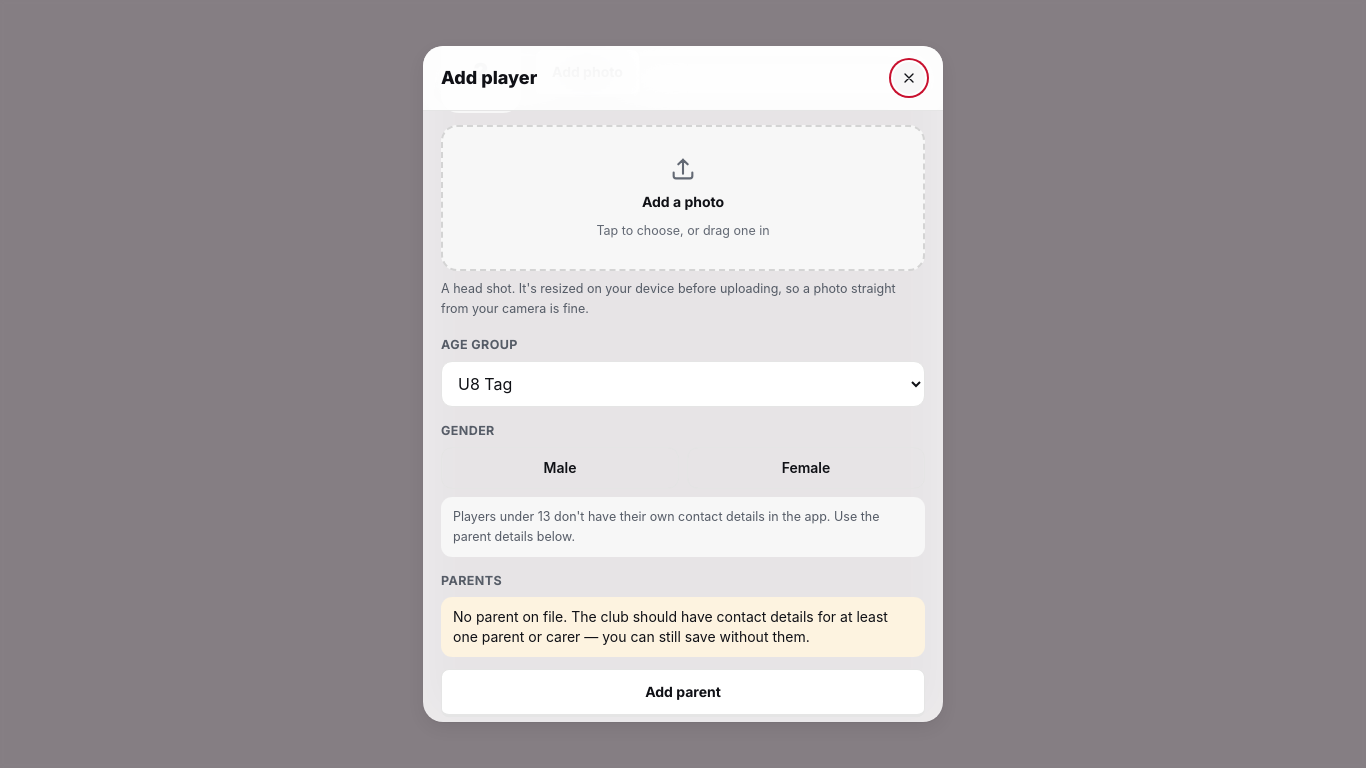
PlayerForm — a minis player › ⚠️ MOVES WITH THE AGE GROUP DROPDOWN, in the same sitting
(page scrolled)
Check: the field labelled "tier" is not shown
Select "U14B Contact" in the dropdown labelled "Age group" at (683, 384), box [441,361,925,407]
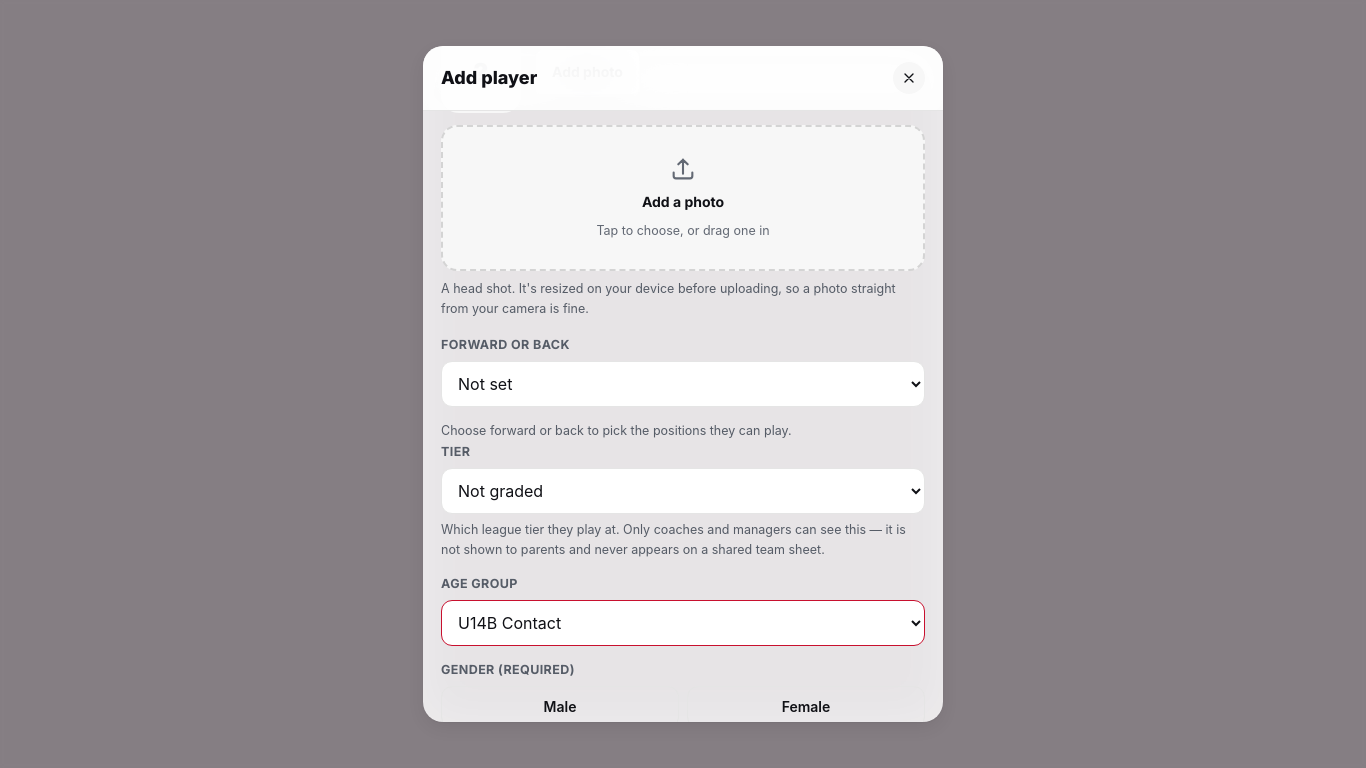
Check: the dropdown labelled "Tier" is shown, box [441,468,925,514]
Select "U8 Tag" in the dropdown labelled "Age group" at (683, 623), box [441,600,925,646]
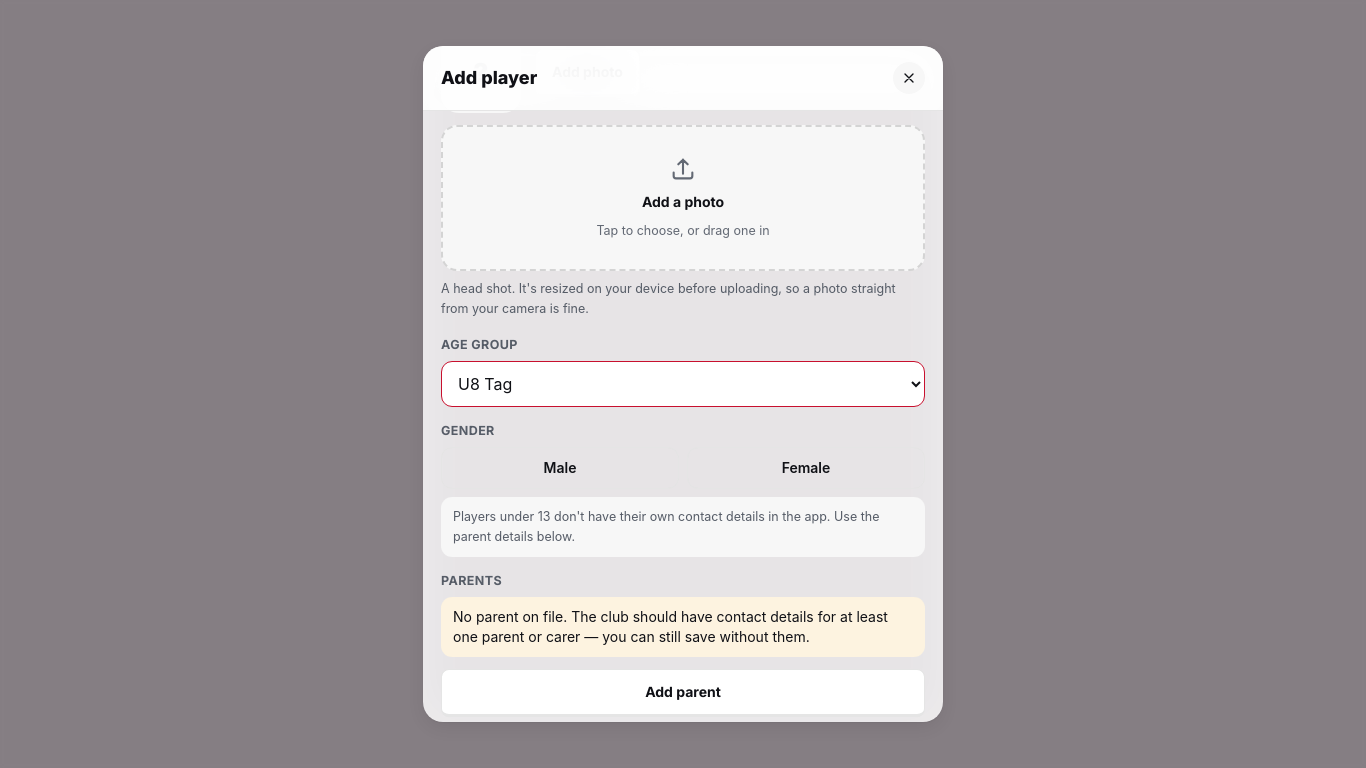
Check: the label labelled "Tier" is gone
